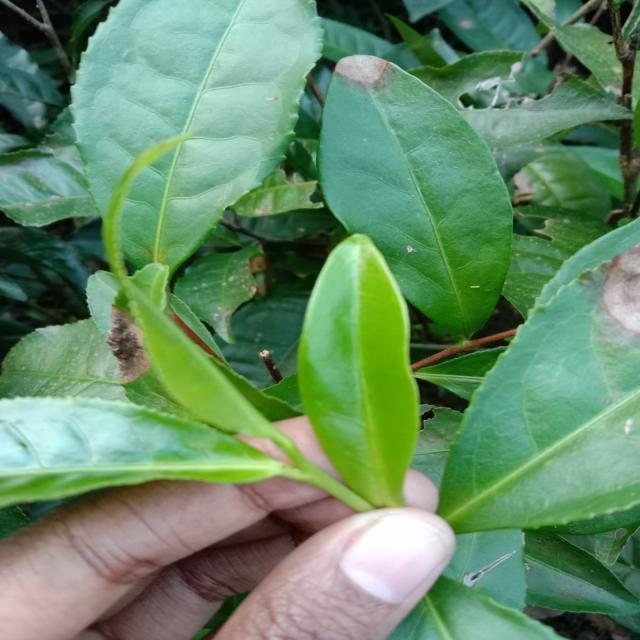Category C 4-7 days: (256, 215, 449, 516)
